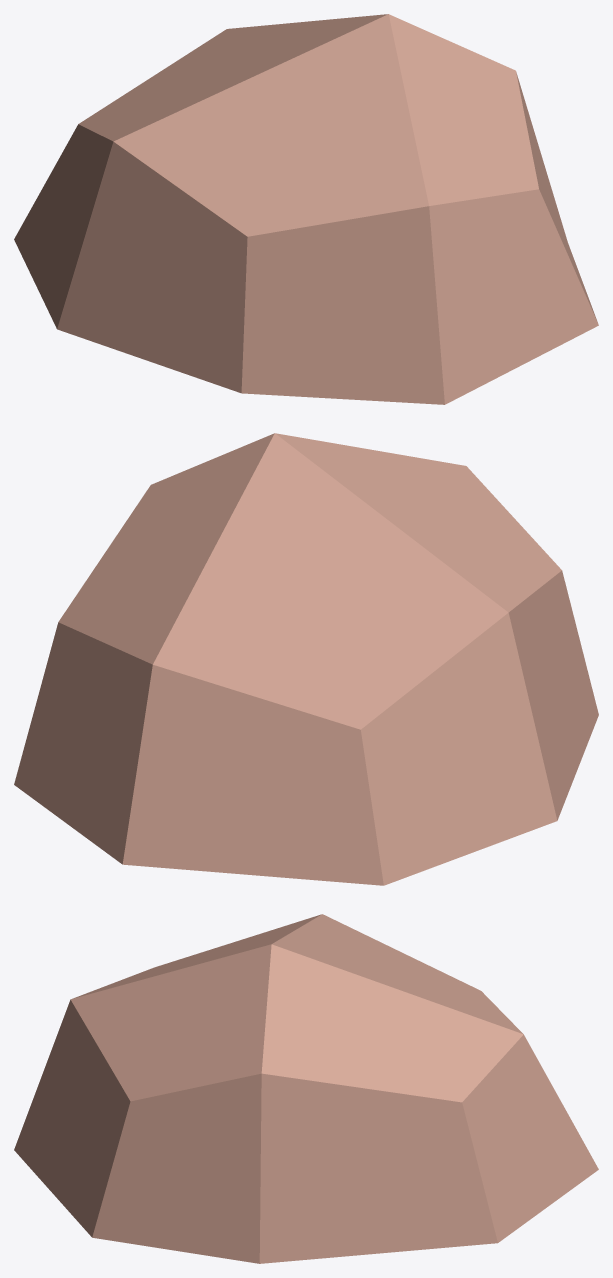
Rendered from Rock_Mesa_Medium_14.fbx.
The picture shows the model from 3 angles, top to bottom: view 1: azimuth 30°, elevation 25°; view 2: azimuth 150°, elevation 25°; view 3: azimuth 270°, elevation 25°; orthographic projection. The views are drawn at different scales.
Parts seen in each view (by area): view 1: Rock; view 2: Rock; view 3: Rock.
Boxes of the visible parts, bbox=[...] form: Rock: bbox=[14, 14, 598, 404]; Rock: bbox=[14, 433, 598, 885]; Rock: bbox=[14, 914, 598, 1263].
Bounding box in the file's own units: 54.36 × 29.62 × 64.05.
